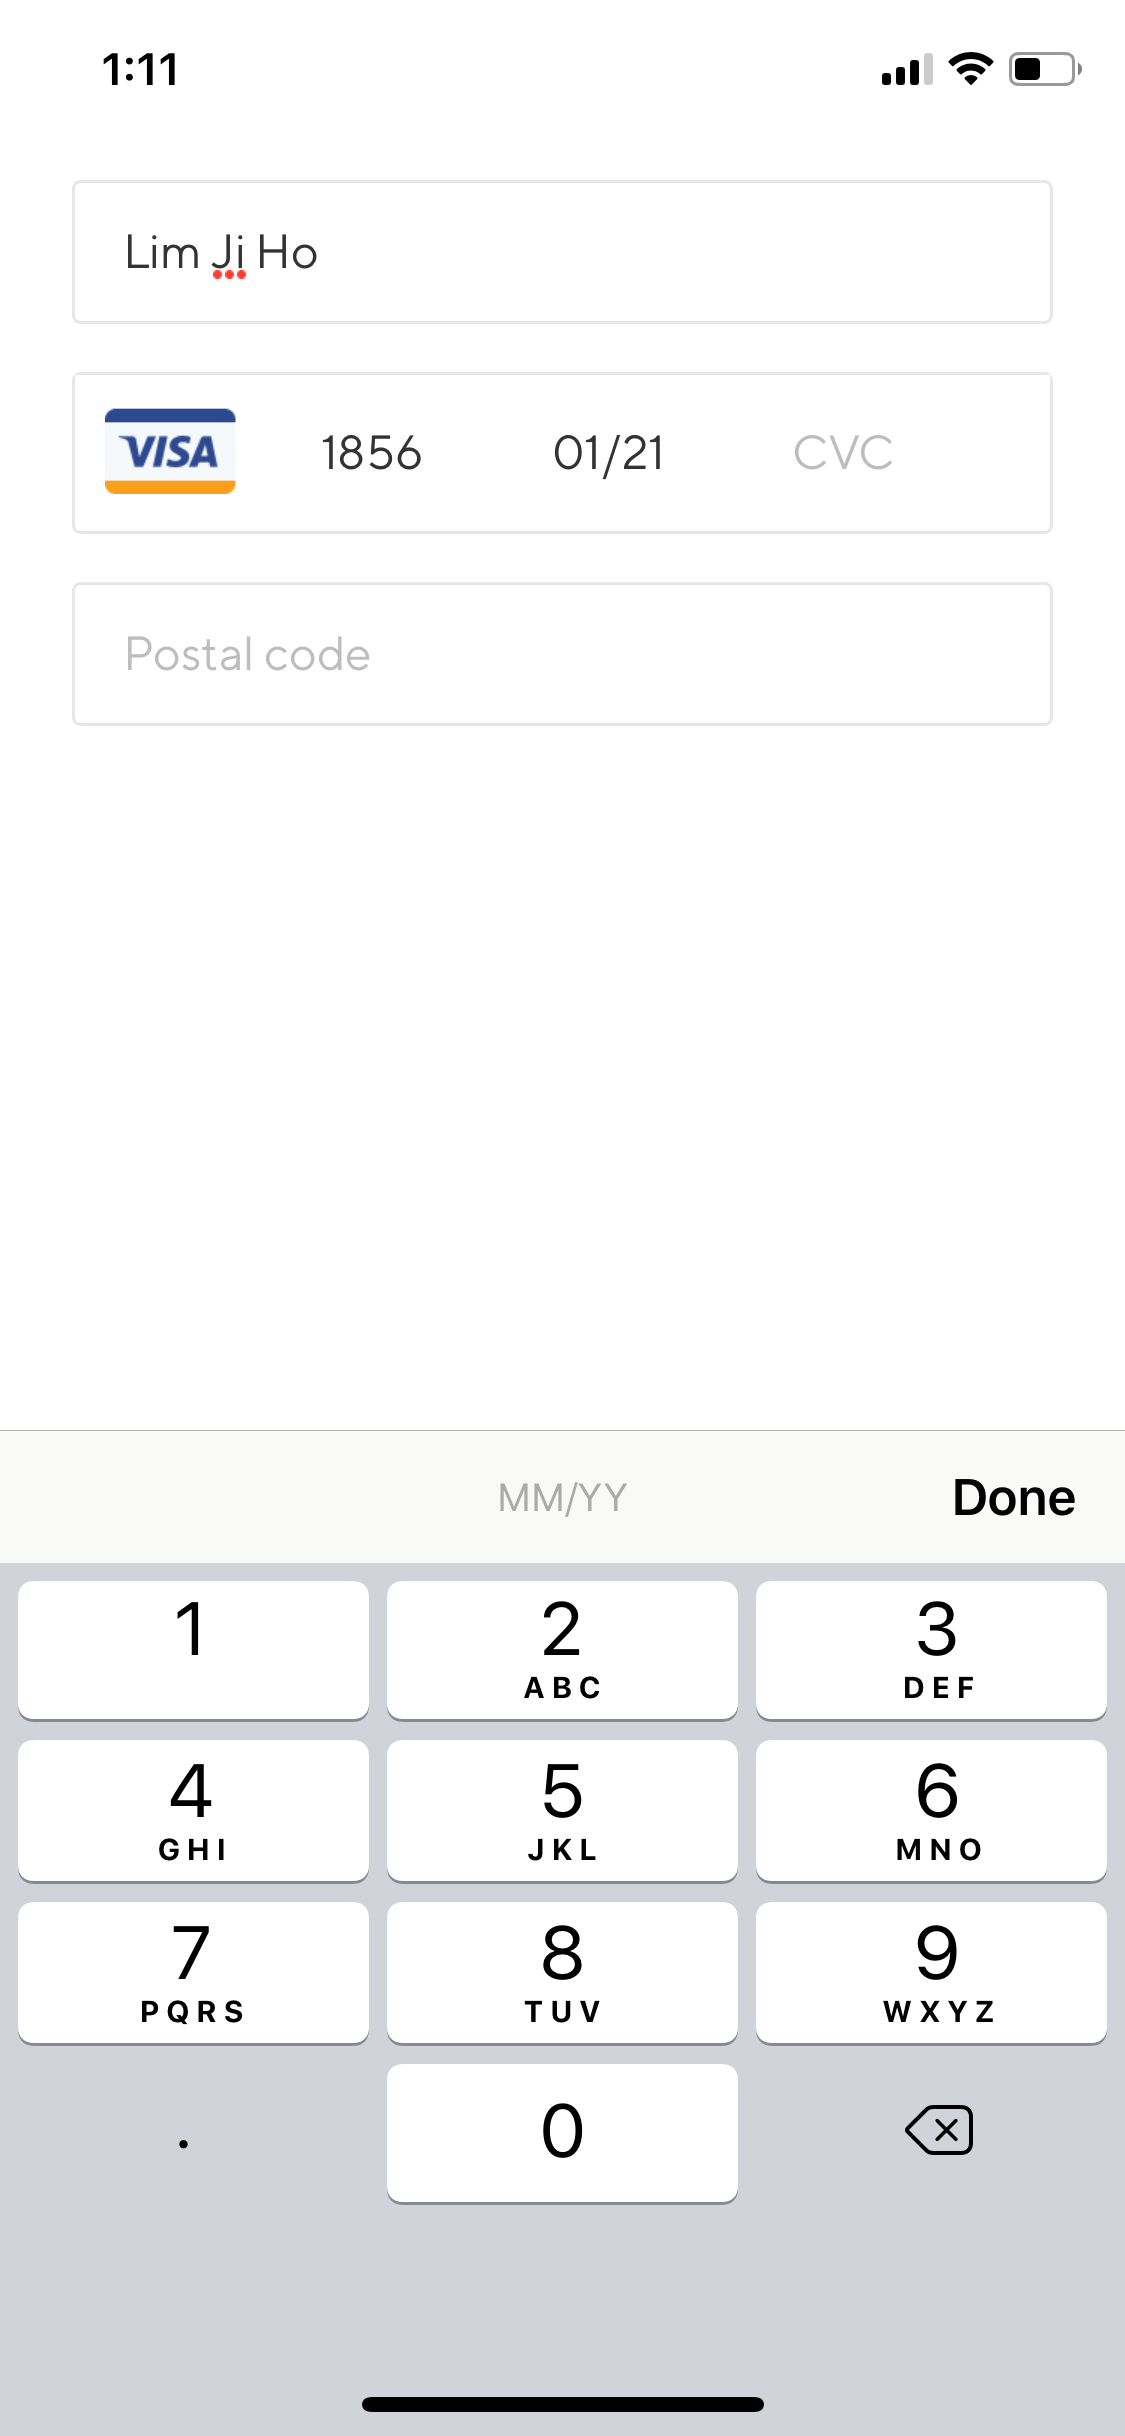Text Fields: (59, 356, 1057, 552), (61, 565, 1060, 744), (67, 176, 1061, 339)
